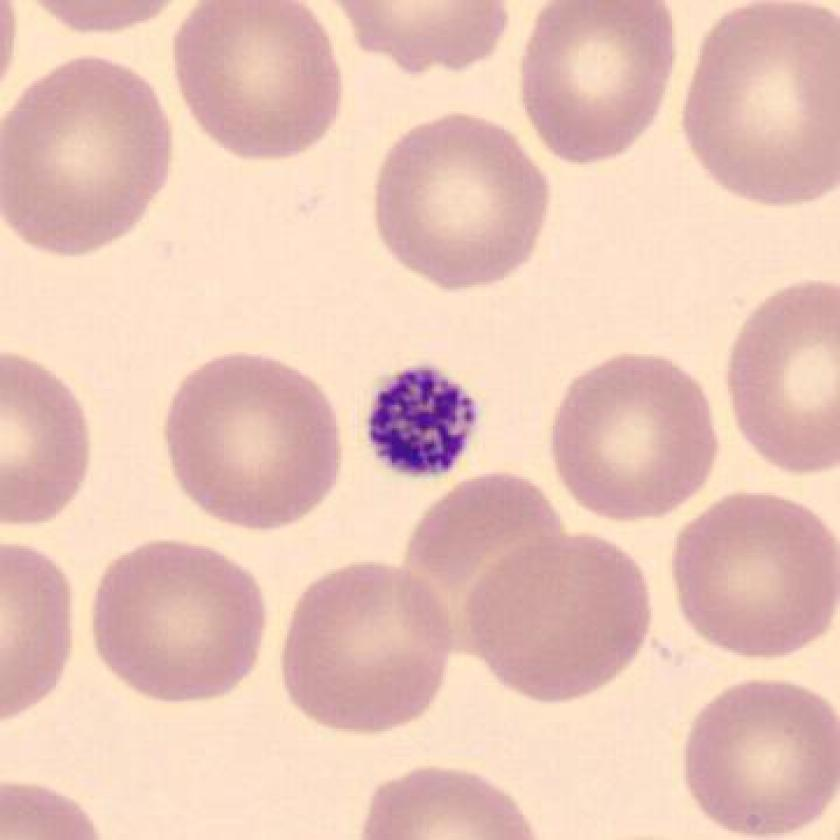platelets: (360, 353, 489, 492)
